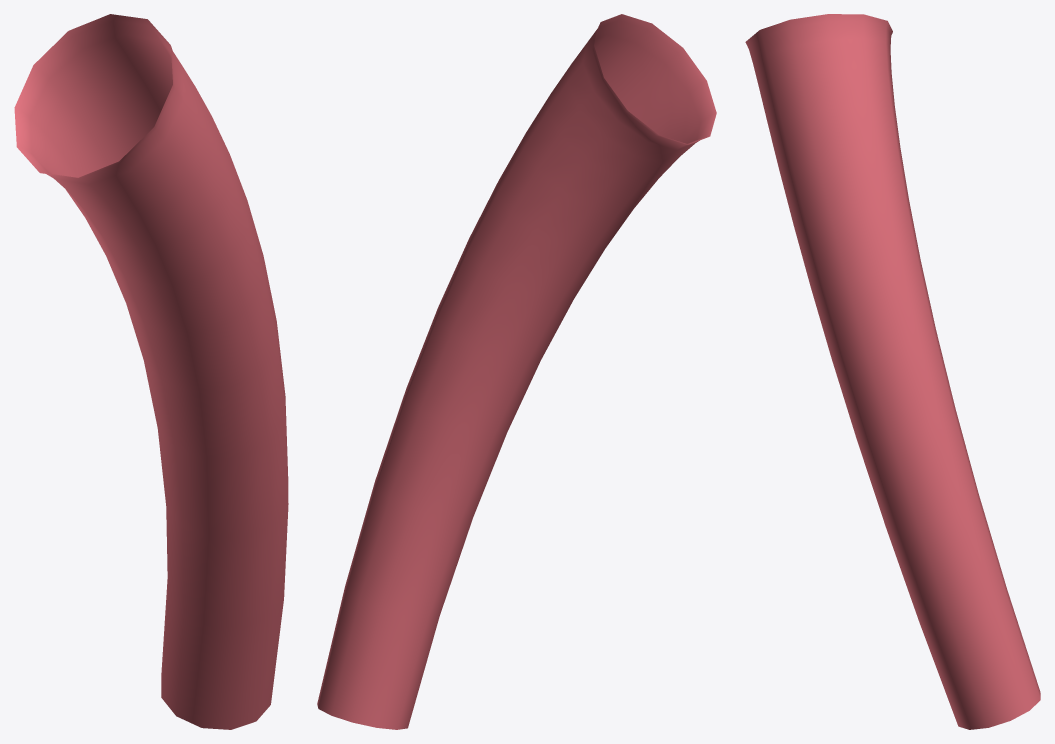
3 views of the same model, side by side, from view 1: azimuth 30°, elevation 25°; view 2: azimuth 150°, elevation 25°; view 3: azimuth 270°, elevation 25° (orthographic). The views are drawn at different scales.
Parts seen in each view (by area): view 1: ZA_460aa9e2f0da437a; view 2: ZA_460aa9e2f0da437a; view 3: ZA_460aa9e2f0da437a.
Part boxes in pixels (<box>): ZA_460aa9e2f0da437a: <box>14,14,288,729</box>; ZA_460aa9e2f0da437a: <box>317,14,716,729</box>; ZA_460aa9e2f0da437a: <box>745,14,1040,729</box>.
Bounding box in the file's own units: 0.00628 × 0.0141 × 0.00591.
